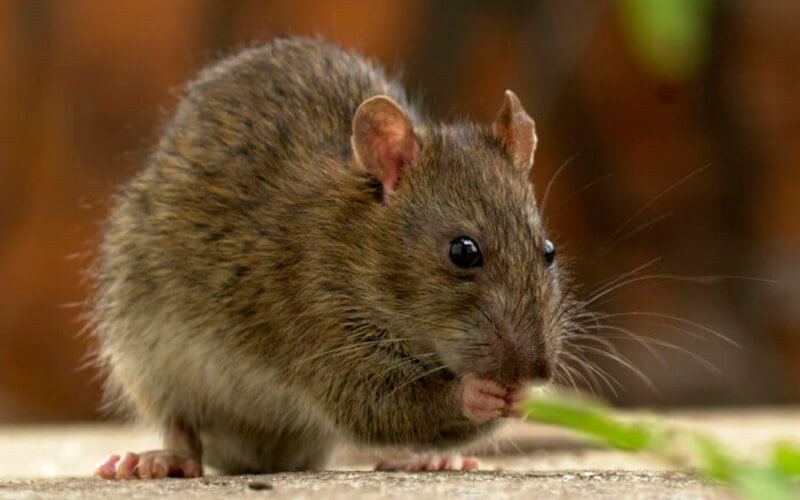rat: (59, 15, 637, 493)
